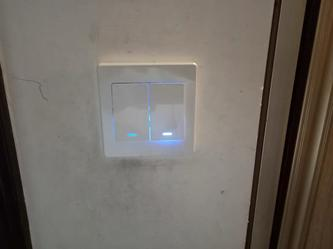switch: (151, 86, 184, 141), (110, 87, 144, 139)
